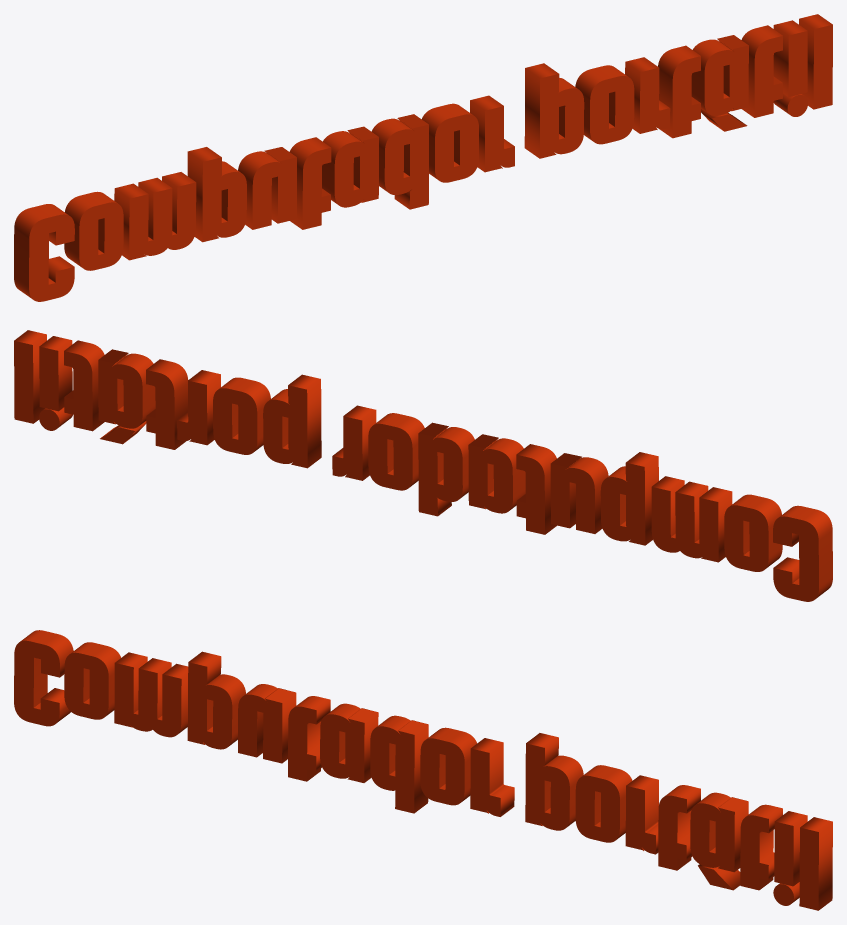
The model's file is computador.obj.
The picture shows the model from 3 angles, top to bottom: view 1: azimuth 30°, elevation 25°; view 2: azimuth 150°, elevation 25°; view 3: azimuth 330°, elevation 25°; orthographic projection.
Parts seen in each view (by area): view 1: Texto; view 2: Texto; view 3: Texto.
Boxes of the visible parts, <box> form: Texto: <box>14,14,832,301</box>; Texto: <box>14,330,832,601</box>; Texto: <box>14,630,832,910</box>.
Bounding box in the file's own units: 7.69 × 0.9554 × 0.3689.
